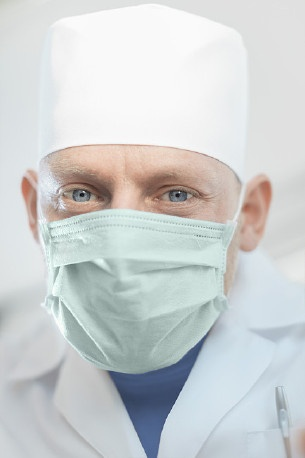Mask: (37, 163, 245, 371)
